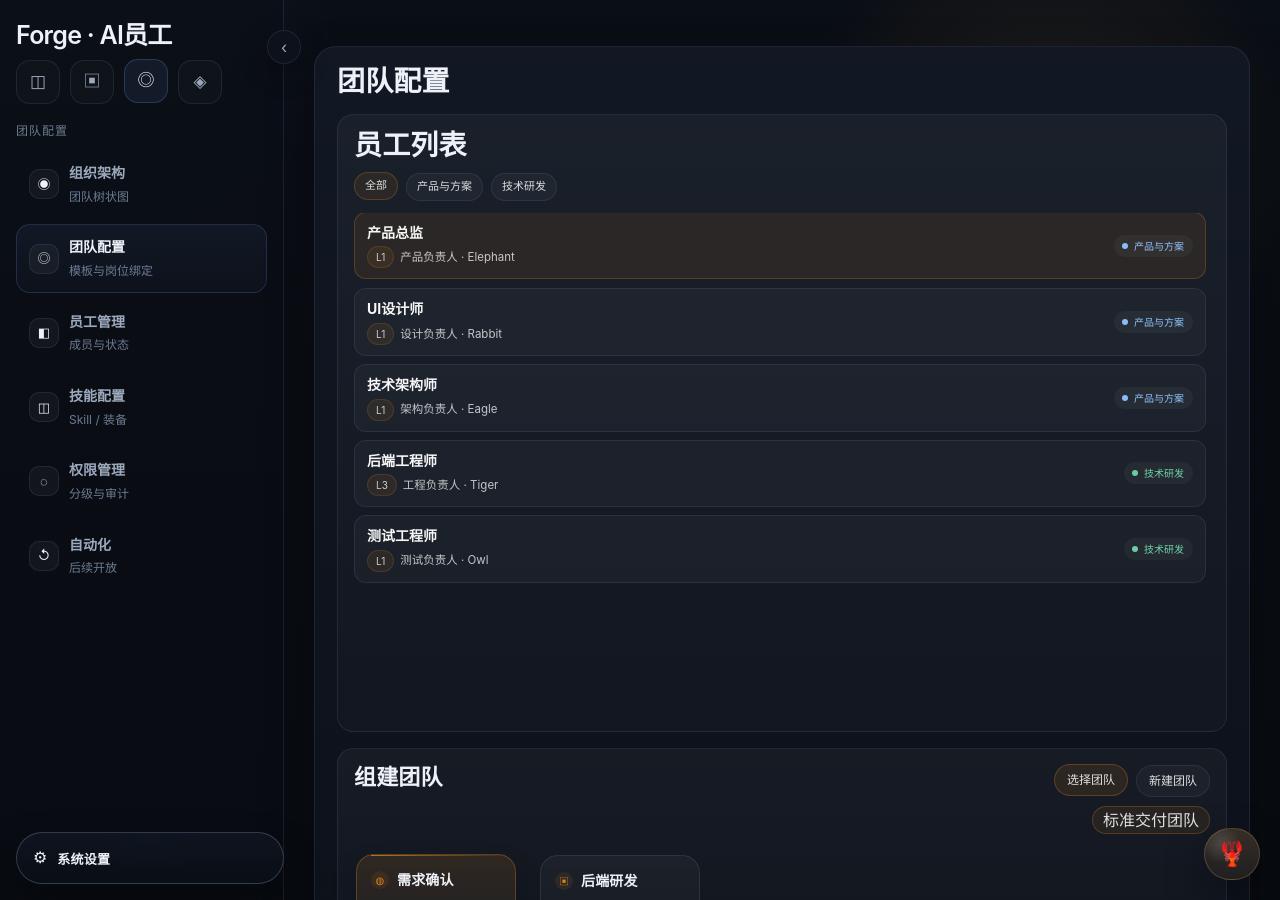
Scenario: forge team page bridge › renders the initial team page data without an immediate contract refresh
The width and height of the screenshot is (1280, 900).
Check: the heading "团队配置" is shown, box [337,67,450,96]
Click the button "◧ 员工管理 成员与状态": (142, 333) [16,299,267,367]
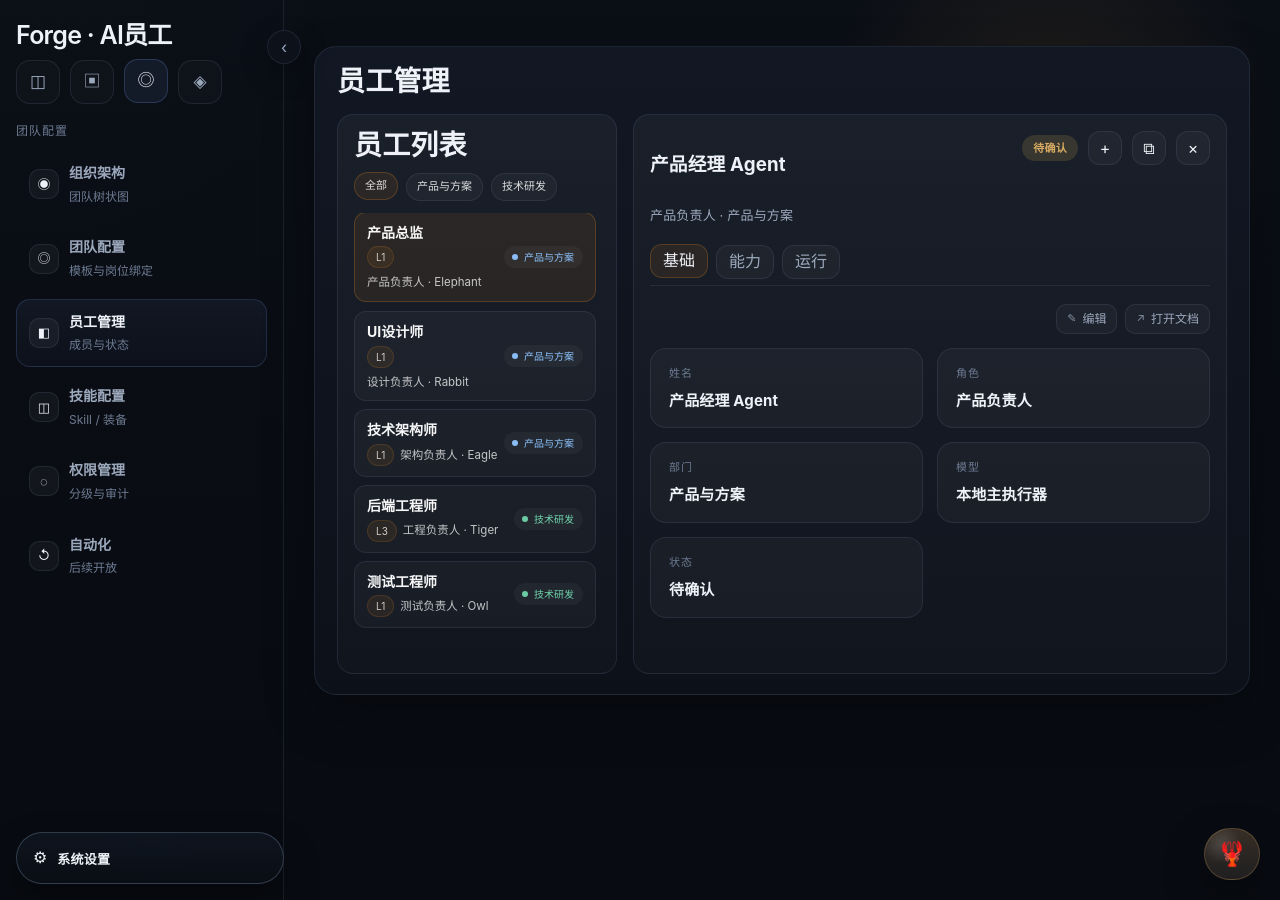
Check: the heading "产品经理 Agent" is shown, box [650,150,793,179]
